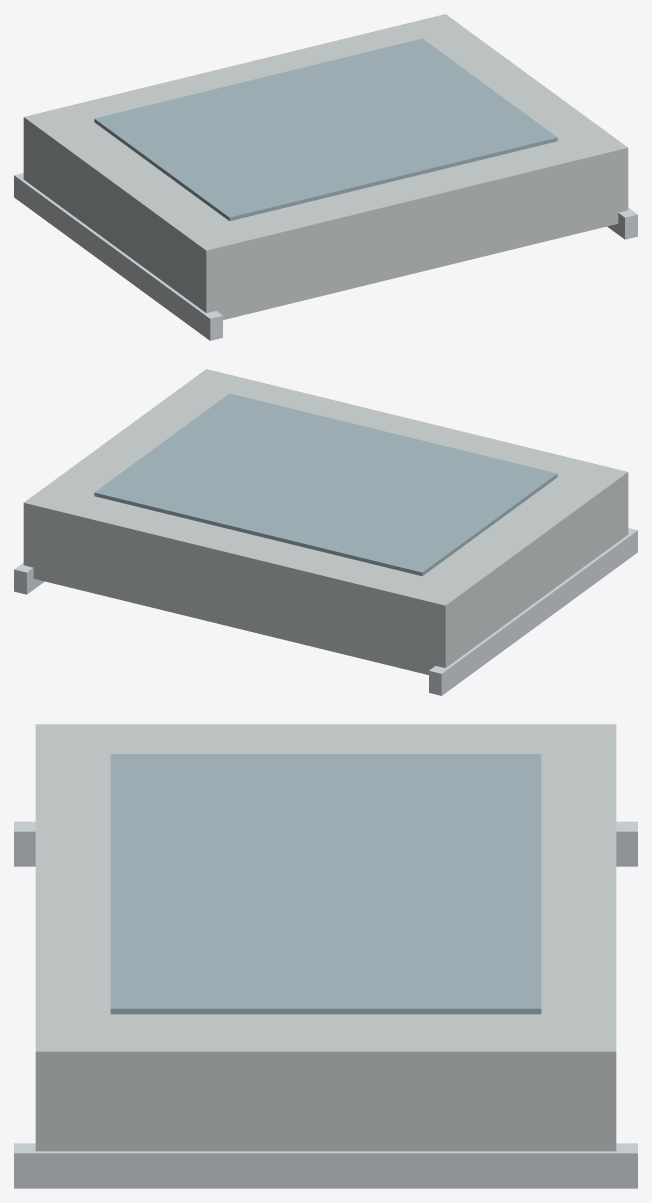
The model's file is 346_L122_SH3_RFShield.glb.
The picture shows the model from 3 angles, top to bottom: view 1: azimuth 30°, elevation 25°; view 2: azimuth 150°, elevation 25°; view 3: azimuth 270°, elevation 25°; orthographic projection. The views are drawn at different scales.
Parts seen in each view (by area): view 1: L122_rf_shield__PSMAT__rf_shield, L122_aluminum_dark__PSMAT__aluminum_dark, L122_tin__PSMAT__tin; view 2: L122_rf_shield__PSMAT__rf_shield, L122_aluminum_dark__PSMAT__aluminum_dark, L122_tin__PSMAT__tin; view 3: L122_rf_shield__PSMAT__rf_shield, L122_aluminum_dark__PSMAT__aluminum_dark, L122_tin__PSMAT__tin.
Boxes of the visible parts, x1=… form: L122_rf_shield__PSMAT__rf_shield: x1=23, y1=14, x2=628, y2=319; L122_aluminum_dark__PSMAT__aluminum_dark: x1=94, y1=38, x2=557, y2=221; L122_tin__PSMAT__tin: x1=14, y1=173, x2=637, y2=340; L122_rf_shield__PSMAT__rf_shield: x1=23, y1=369, x2=628, y2=674; L122_aluminum_dark__PSMAT__aluminum_dark: x1=94, y1=393, x2=557, y2=576; L122_tin__PSMAT__tin: x1=14, y1=528, x2=637, y2=695; L122_rf_shield__PSMAT__rf_shield: x1=35, y1=724, x2=616, y2=1151; L122_aluminum_dark__PSMAT__aluminum_dark: x1=110, y1=754, x2=541, y2=1014; L122_tin__PSMAT__tin: x1=14, y1=821, x2=637, y2=1188.
Size of the model in its own units: 0.0365 by 0.00725 by 0.029.
